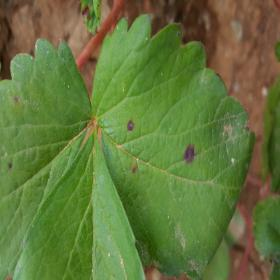Leaf Spot: (91, 14, 256, 279), (0, 37, 93, 279), (81, 0, 101, 36)
